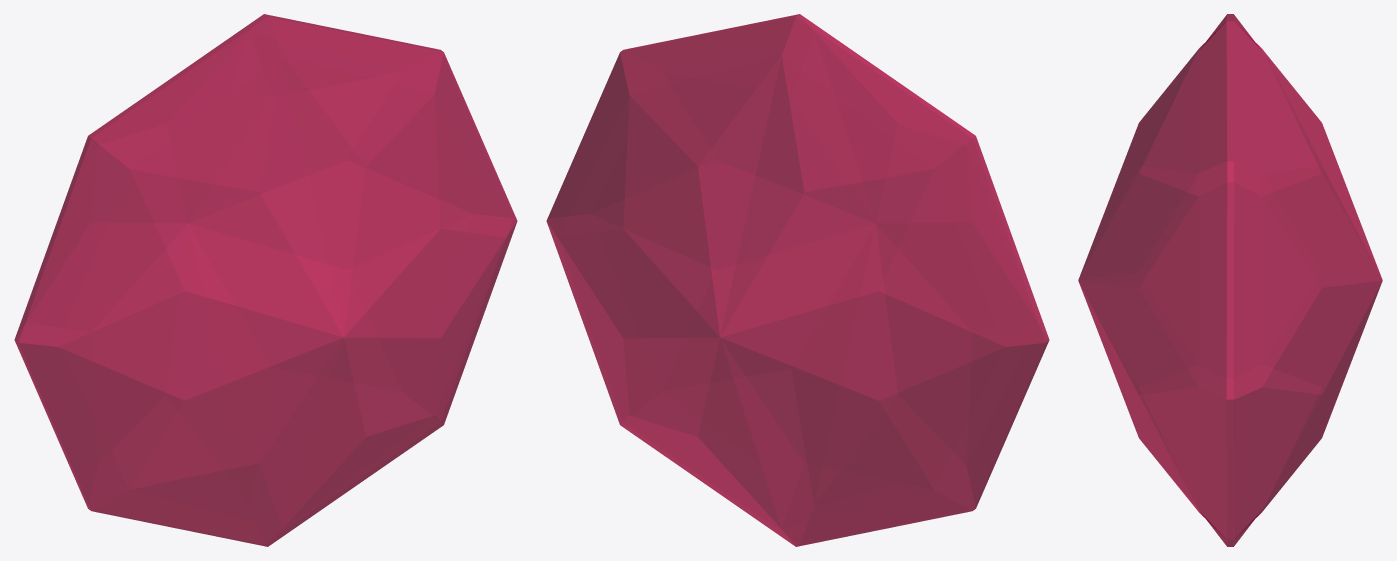
File: rose spinell.glb
3 views of the same model, side by side, from view 1: azimuth 30°, elevation 25°; view 2: azimuth 150°, elevation 25°; view 3: azimuth 270°, elevation 25° (orthographic). The views are drawn at different scales.
Visible parts, largest first — view 1: Cross Rose; view 2: Cross Rose; view 3: Cross Rose.
Part boxes in pixels (x1,y1,x2,y2): Cross Rose: [14, 14, 517, 546]; Cross Rose: [546, 14, 1049, 546]; Cross Rose: [1078, 14, 1382, 546].
Bounding box in the file's own units: 1.74 × 1.76 × 0.9396.
